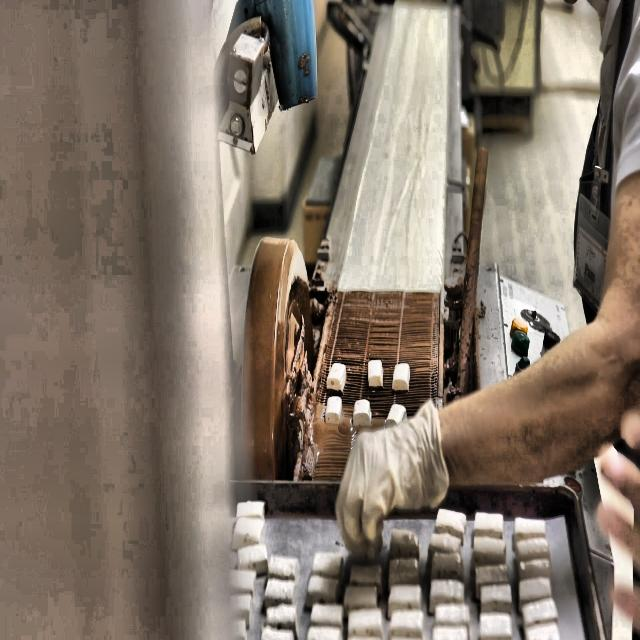gloved: (320, 374, 472, 562)
